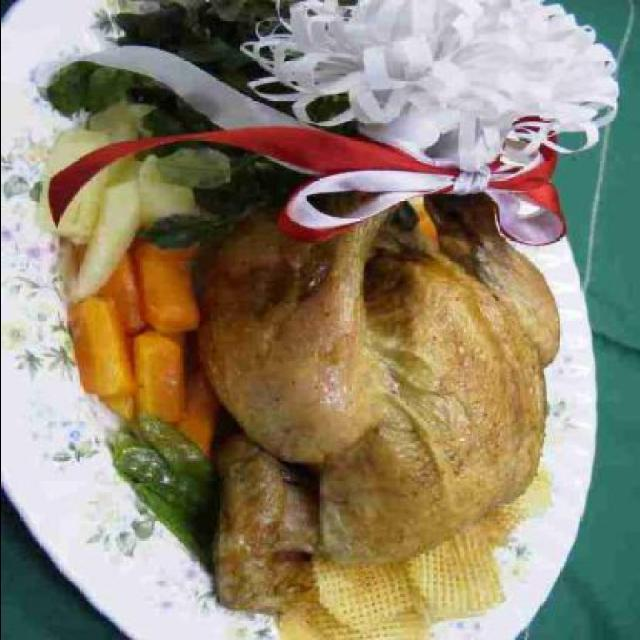Chicken roast: (217, 200, 554, 617)
